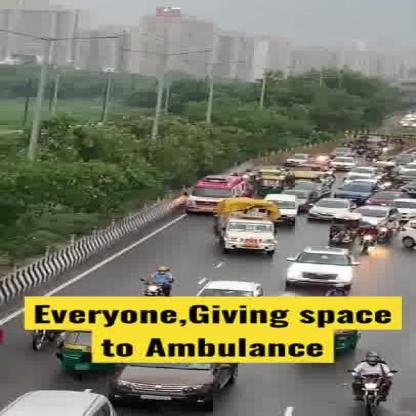priority: (181, 176, 250, 198)
